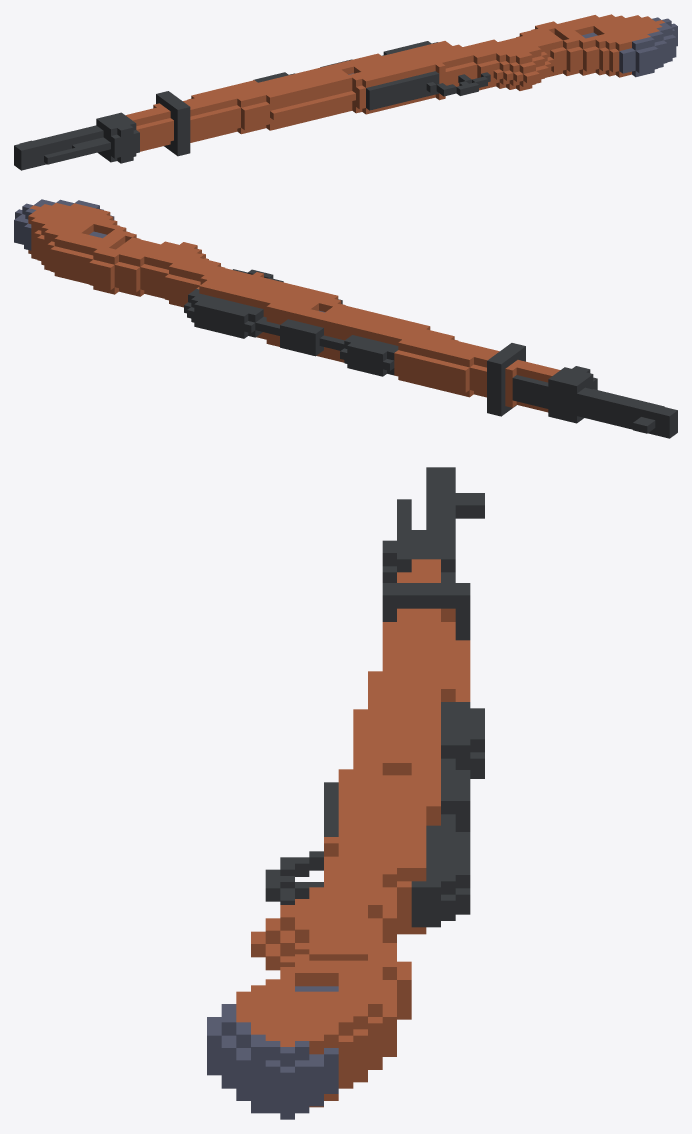
File: gun_3.obj
3 views of the same model, one above another, from view 1: azimuth 30°, elevation 25°; view 2: azimuth 150°, elevation 25°; view 3: azimuth 270°, elevation 25° (orthographic). The views are drawn at different scales.
Bounding box in the file's own units: 9.8 × 0.7 × 1.9.
Materials: 1 (1 with a texture image).
